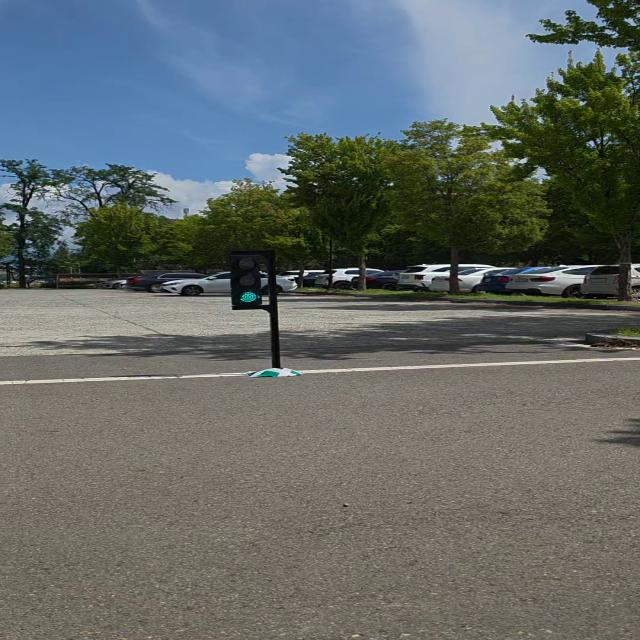green: (231, 252, 268, 308)
